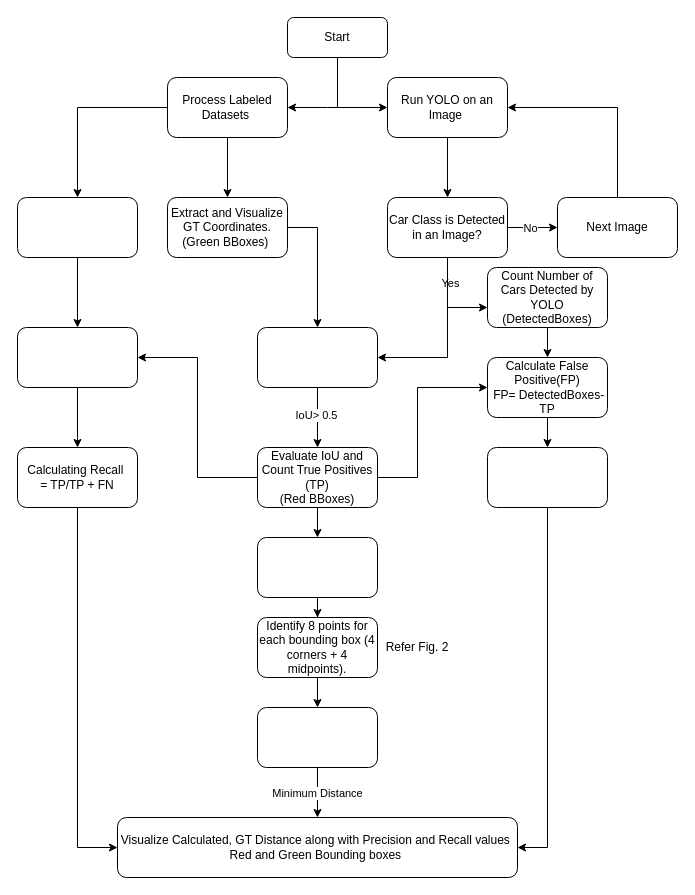
Image size: 695x895. Some labels were removed from this diagram. The centre of each missing label's shape, as x and y in pixels:
Calculate False Negative (FN) FP= GTBoxes- TP: (77,357)
Calculate Intersection Over Union (IOU): (317,357)
Calculate Precision = TP/ TP + FP: (547,477)
Calculate the distance of all 8 point: (317,737)
Count number of cars in GT Data (GTBoxes): (77,227)
Using Intrinsic Matrix and Camera height to estimate depth: (317,567)
